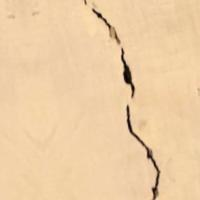crack: (79, 0, 160, 199)
